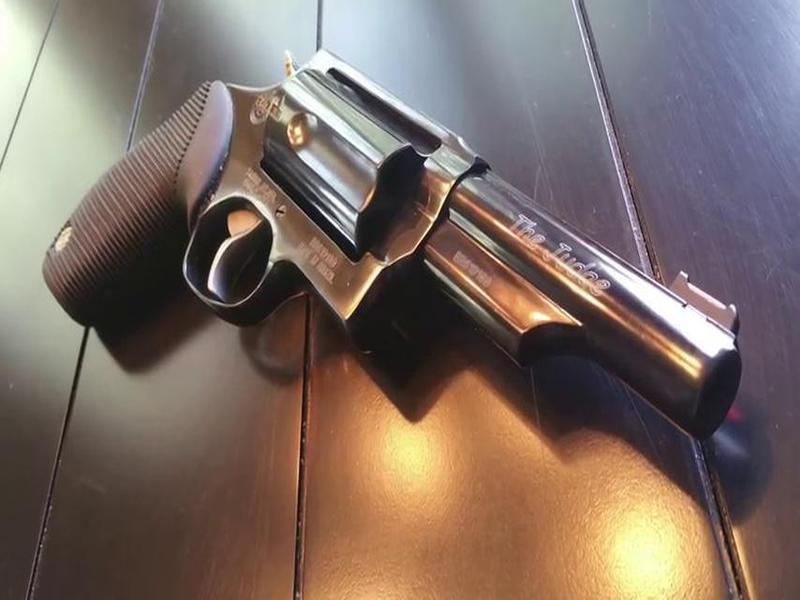Revolver: (65, 60, 737, 471)
